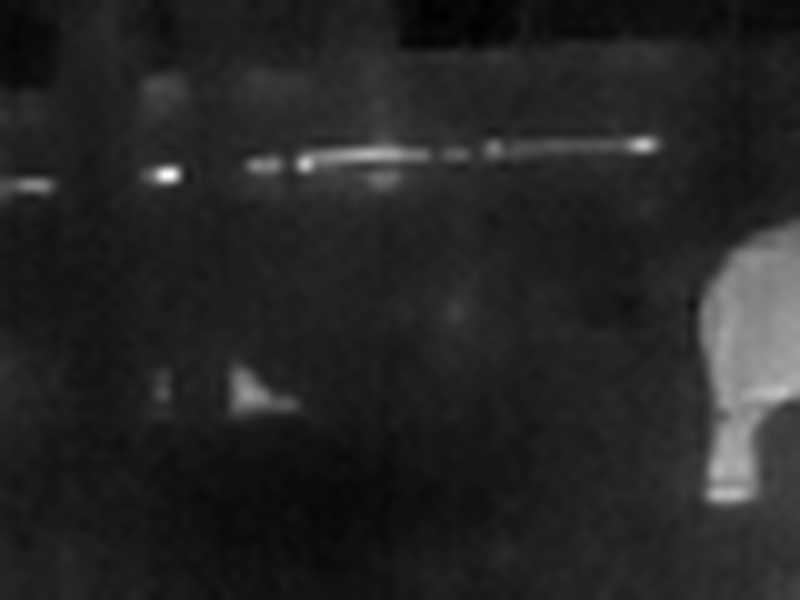elephant: (684, 208, 800, 524)
